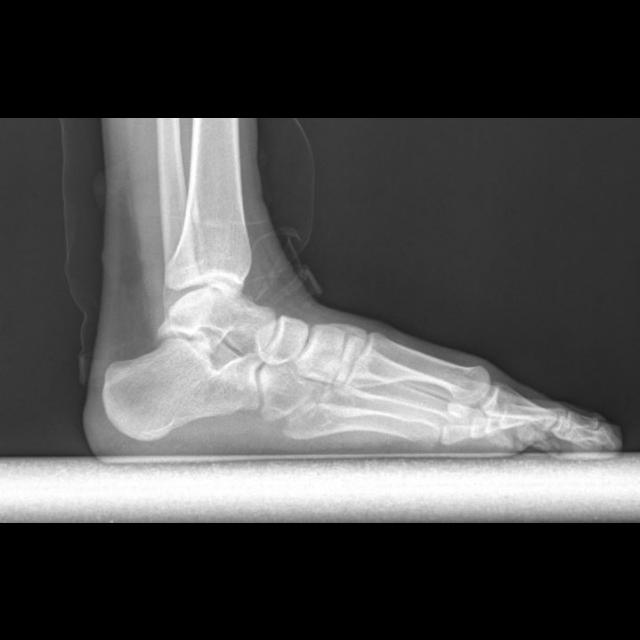a: (105, 339, 261, 441)
b: (260, 314, 309, 364)
c: (345, 330, 489, 404)
